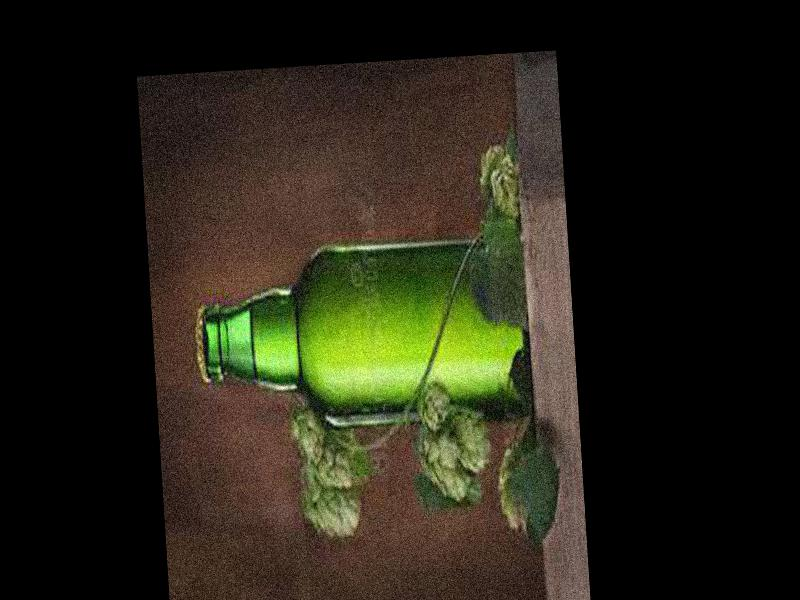Beer: (189, 232, 539, 431)
